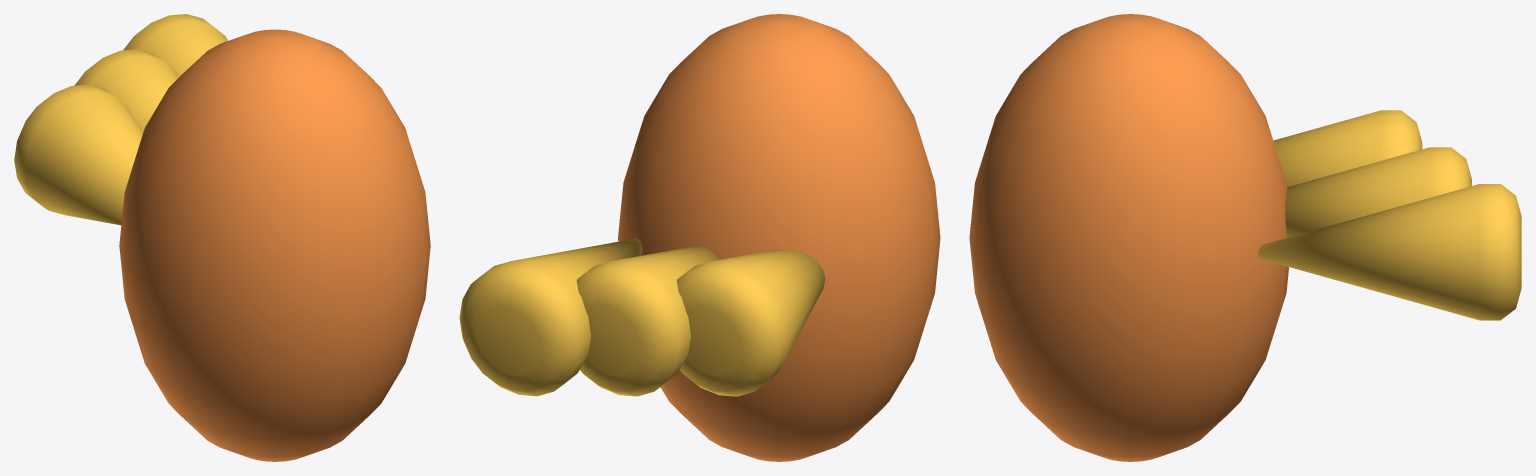
The model's file is fireball.glb.
3 views of the same model, side by side, from view 1: azimuth 30°, elevation 25°; view 2: azimuth 150°, elevation 25°; view 3: azimuth 270°, elevation 25° (orthographic). The views are drawn at different scales.
Visible parts, largest first — view 1: fireball, Fire tongue, Fire tongue.001, Fire tongue.002; view 2: fireball, Fire tongue.002, Fire tongue, Fire tongue.001; view 3: fireball, Fire tongue.002, Fire tongue.001, Fire tongue.
Part boxes in pixels (<box>): fireball: <box>119,29,430,461</box>; Fire tongue: <box>14,84,142,225</box>; Fire tongue.001: <box>74,49,179,132</box>; Fire tongue.002: <box>123,14,227,76</box>; fireball: <box>618,14,940,461</box>; Fire tongue.002: <box>459,238,642,396</box>; Fire tongue: <box>676,249,825,396</box>; Fire tongue.001: <box>576,246,719,396</box>; fireball: <box>969,14,1288,461</box>; Fire tongue.002: <box>1258,184,1521,320</box>; Fire tongue.001: <box>1285,147,1471,237</box>; Fire tongue: <box>1273,110,1422,187</box>.
Bounding box in the file's own units: 0.26 × 0.38 × 0.445.
